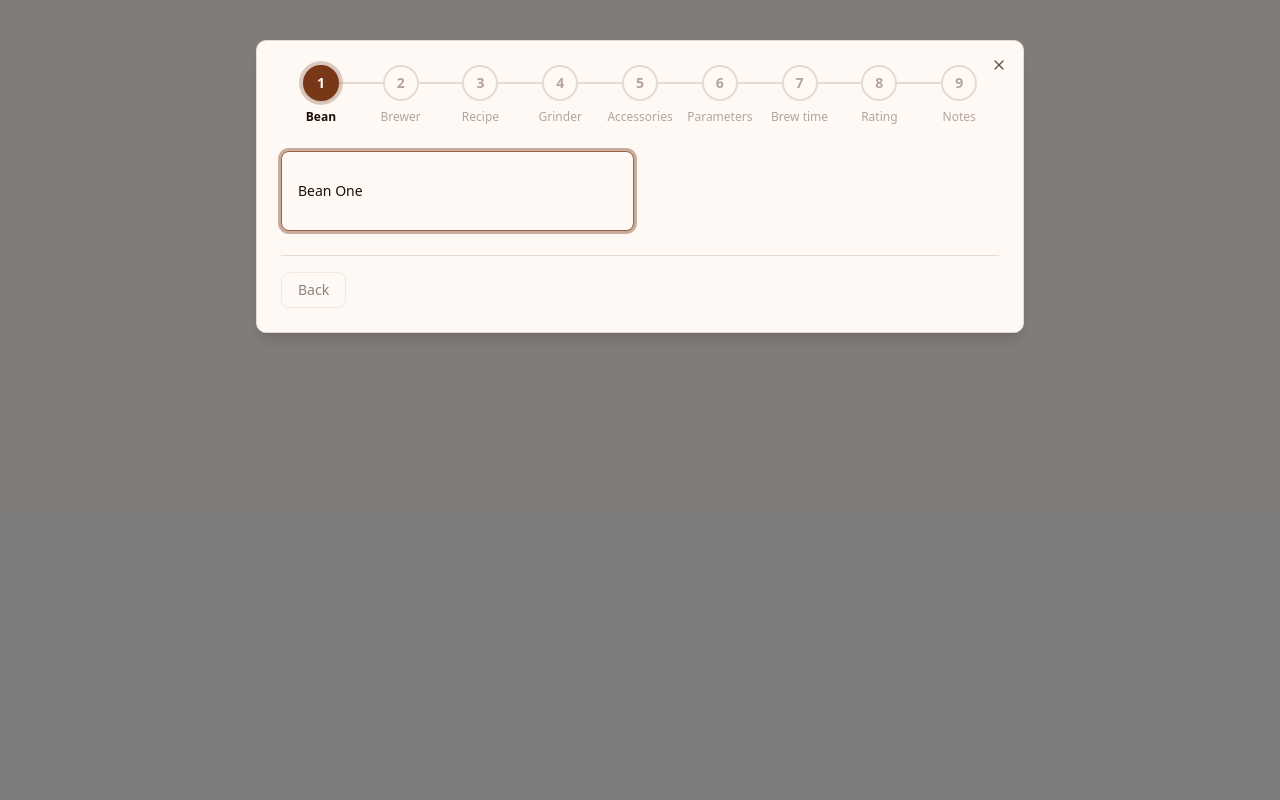
it: QuickLogWizardDialog › forces recipe re-entry after changing the brewer
Click the radio button labelled "Bean One". click: click(330, 190)
box: [281,151,634,231]
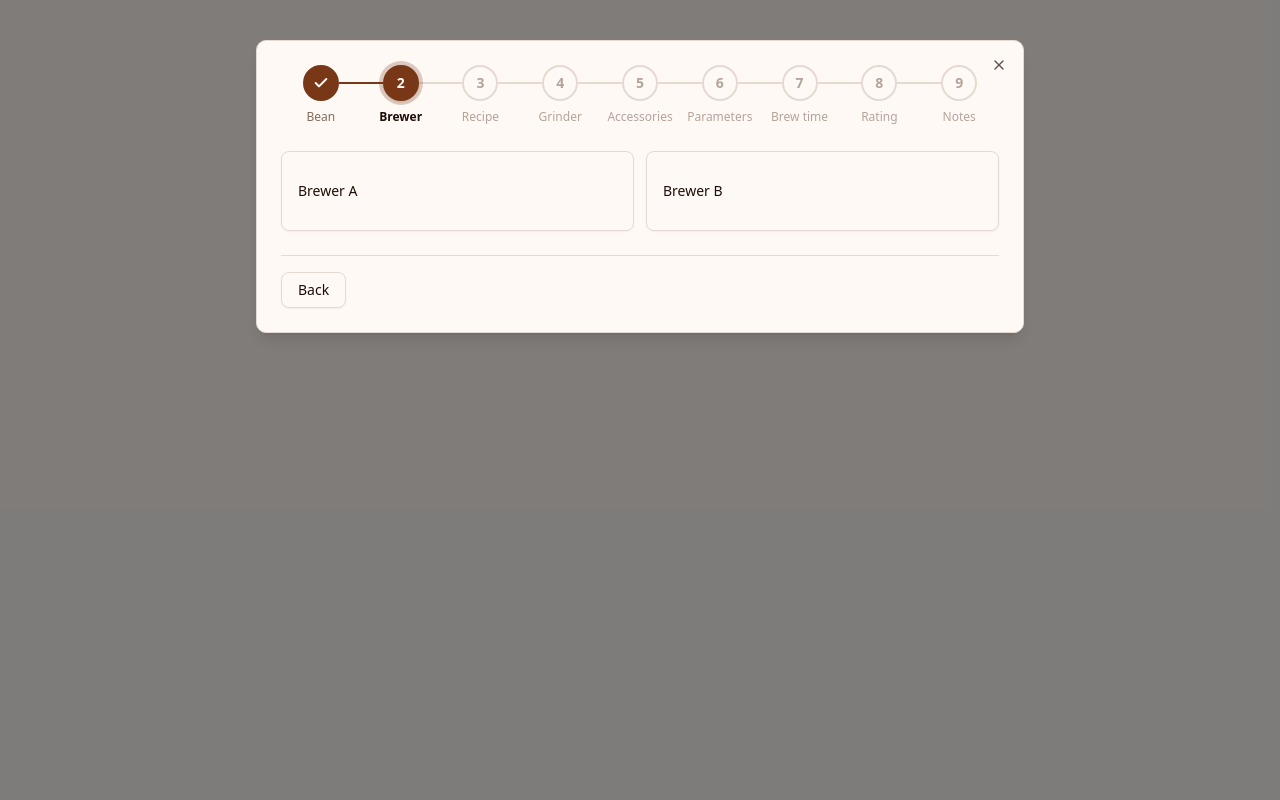
Click the radio button labelled "Brewer A". click: click(328, 190)
box: [281,151,634,231]
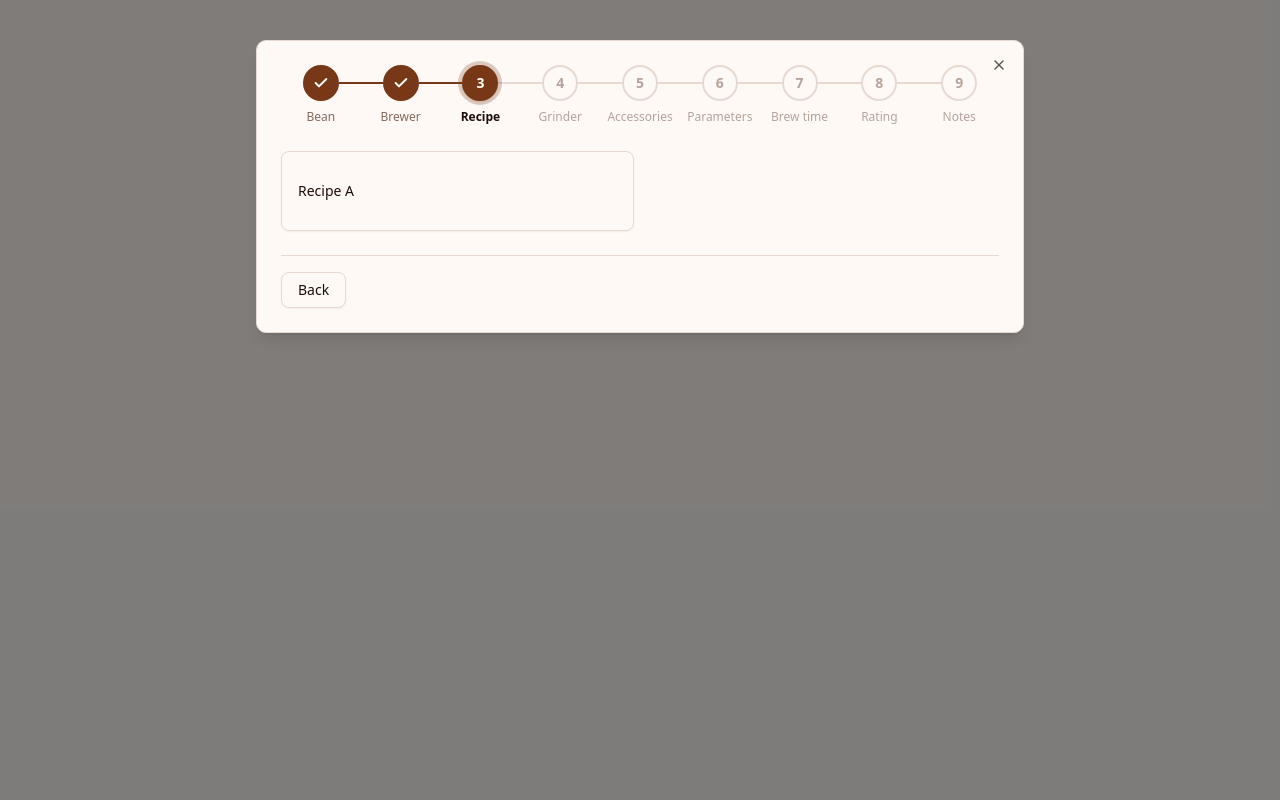
Click the radio button labelled "Recipe A". click: click(326, 190)
box: [281,151,634,231]
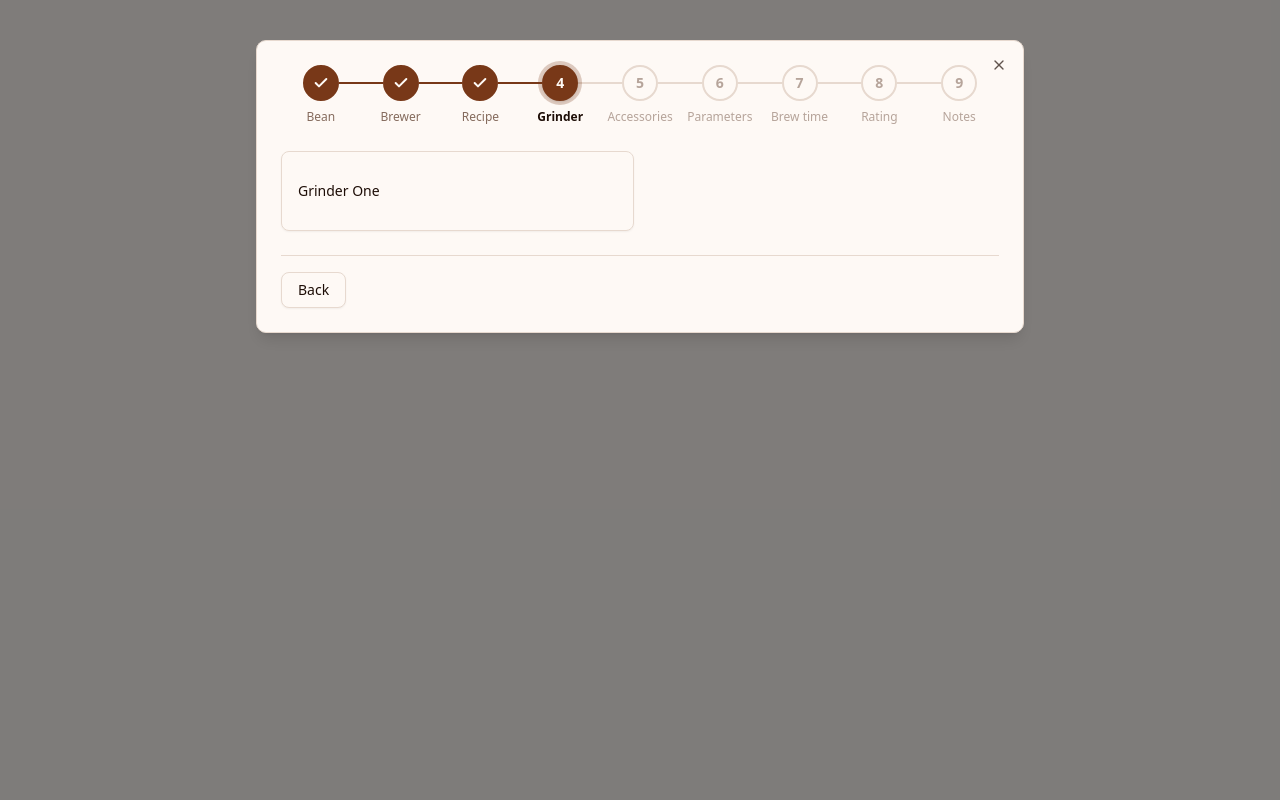
Click the radio button labelled "Grinder One". click: click(339, 190)
box: [281,151,634,231]
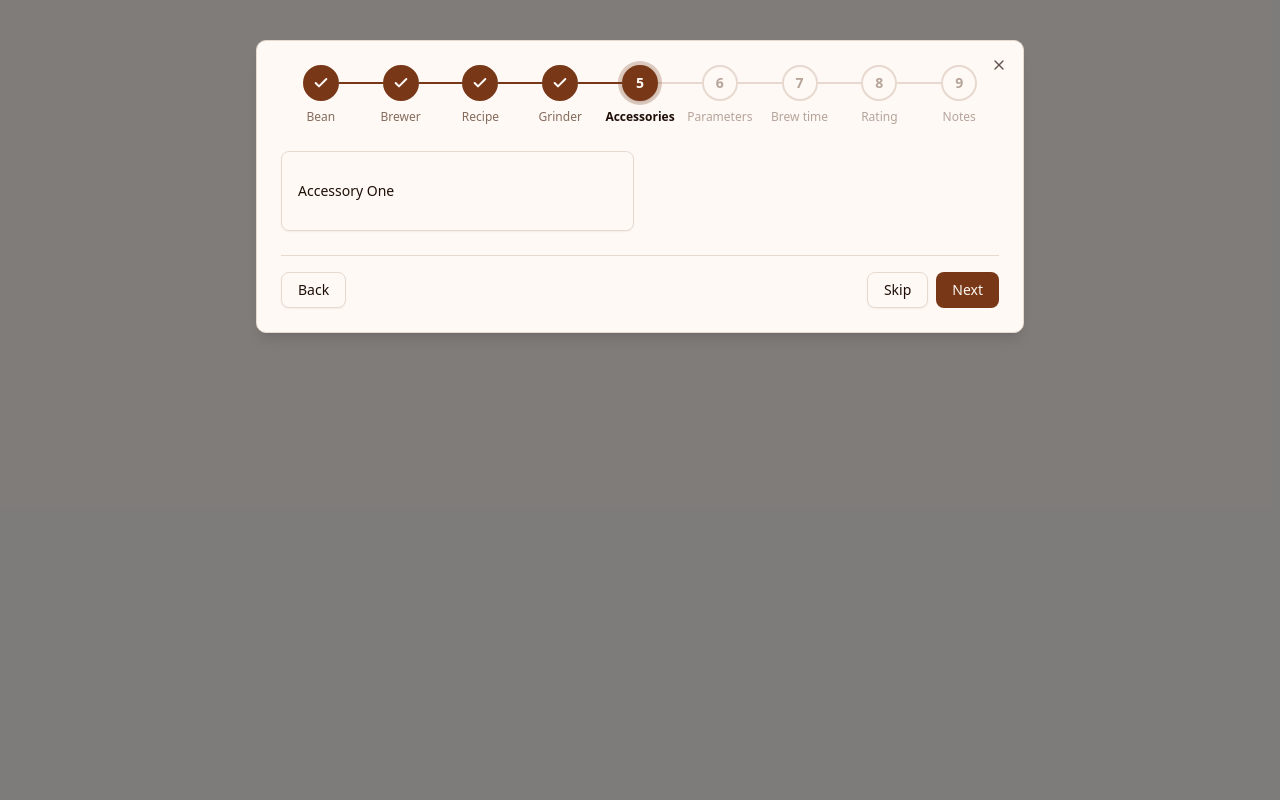
Click the 3rd button named "Brewer". click: click(401, 83)
box: [383,65,419,101]
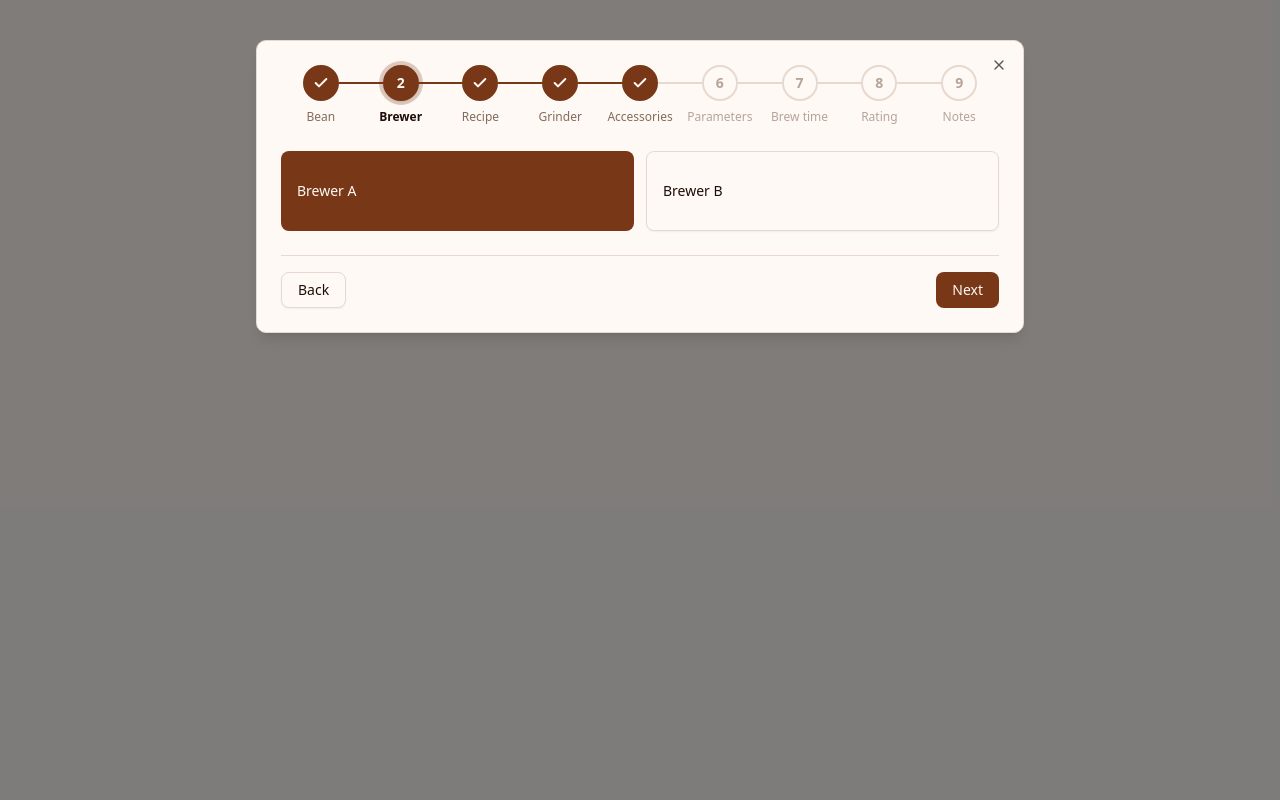
Click the radio button labelled "Brewer B". click: click(693, 190)
box: [646,151,999,231]
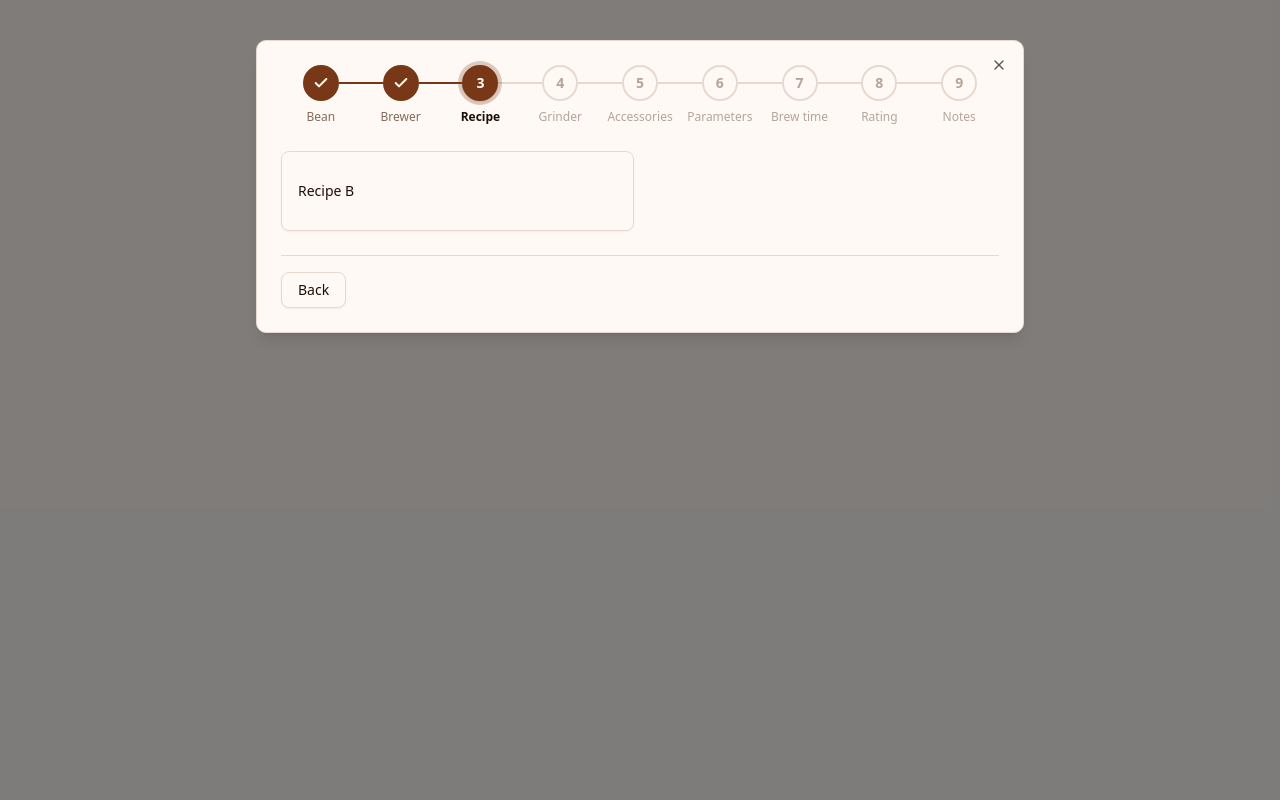
Expected: the radio button labelled "Recipe A" is not shown
Result: the radio button labelled "Recipe B" is shown at [281,151,634,231]
